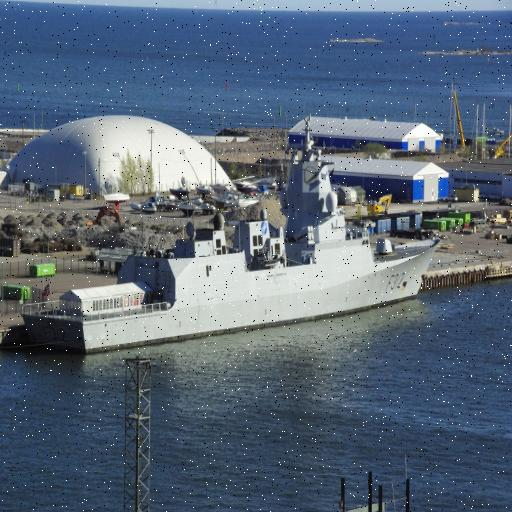Fragata: (19, 110, 444, 360)
